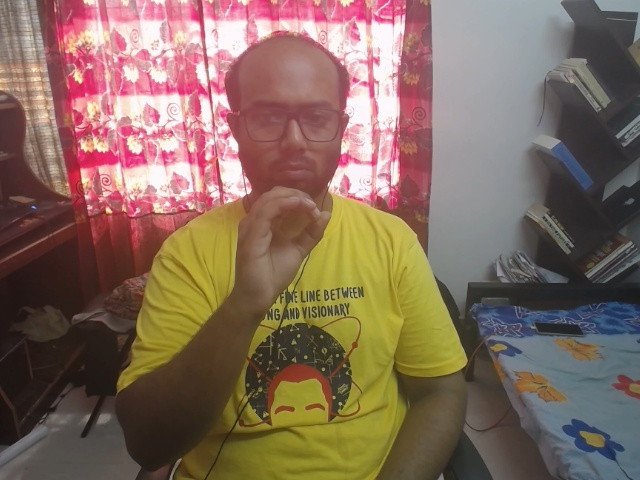zero: (204, 171, 355, 344)
